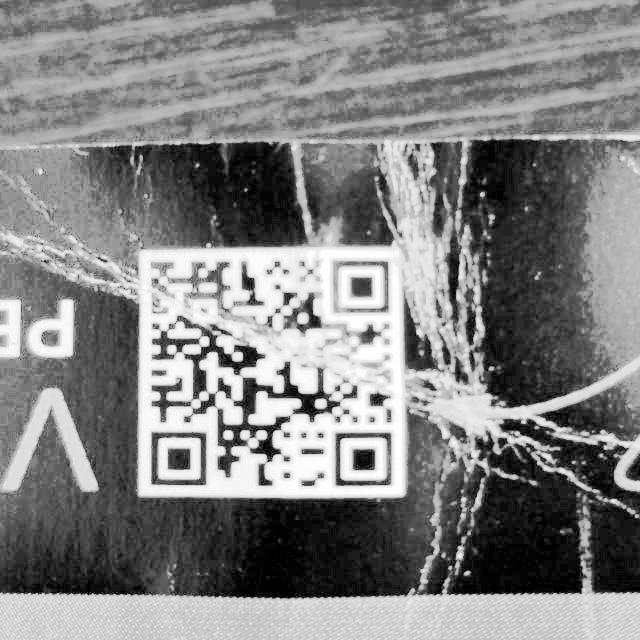qr_code: (138, 241, 402, 493)
